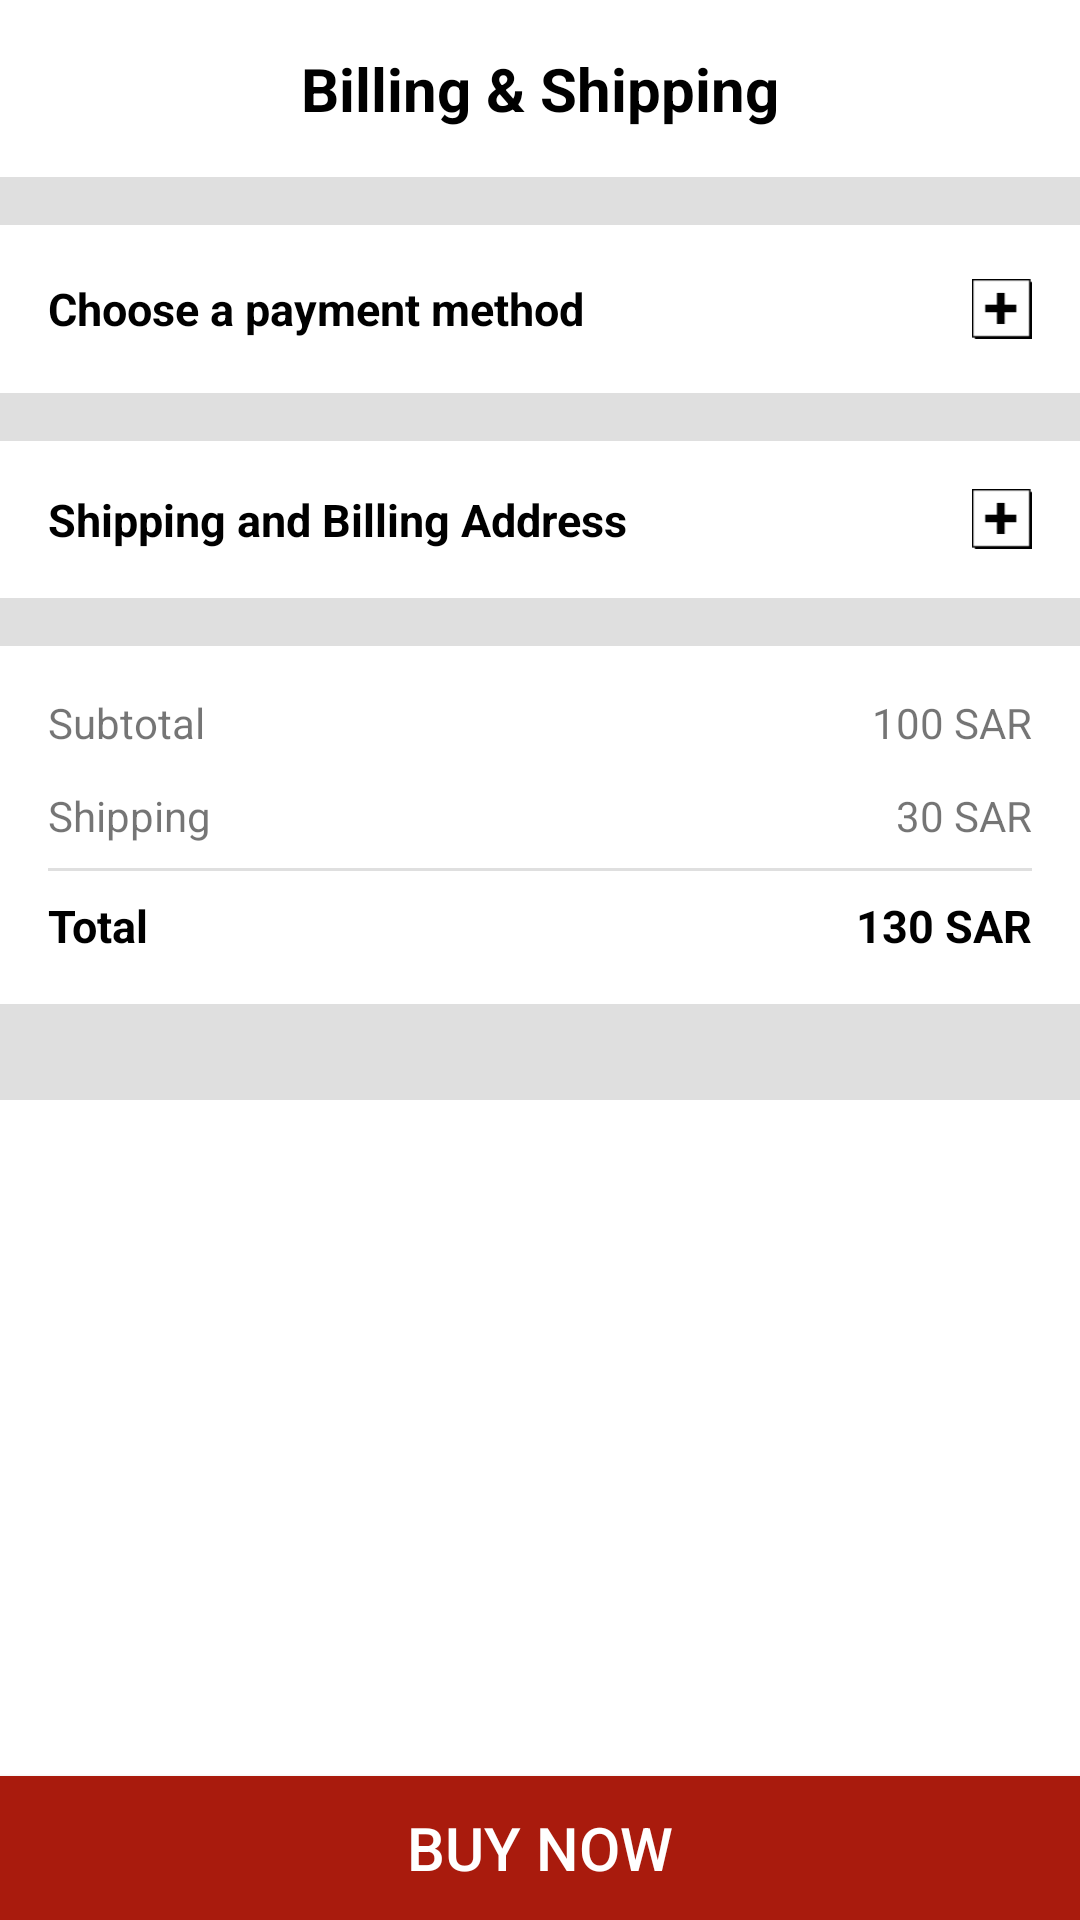

Point at icon controls on the screen. Image size 1080px x 1920px, points as (x,y).
plus: (1002,309), (1002,519)
